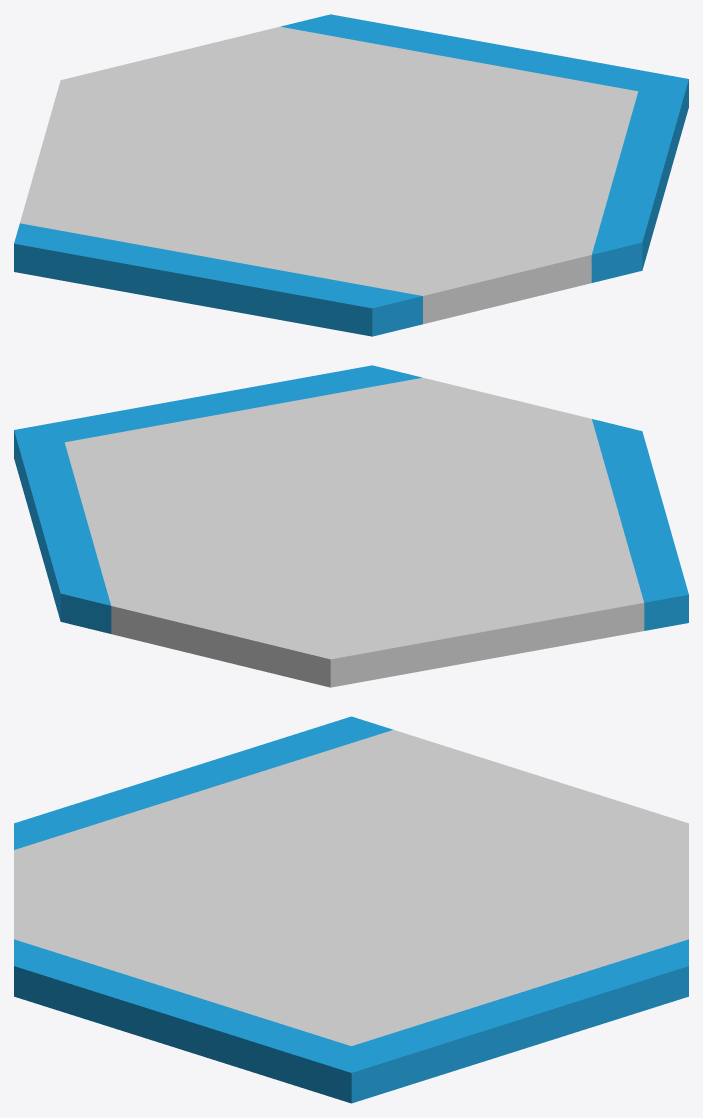
3 renders of one model, top to bottom at view 1: azimuth 30°, elevation 25°; view 2: azimuth 150°, elevation 25°; view 3: azimuth 270°, elevation 25°, orthographic. The views are drawn at different scales.
Visible parts, largest first — view 1: Hexagon.001, SW, SE.001, NE.001; view 2: Hexagon.001, NE.001, SW, SE.001; view 3: Hexagon.001, SE.001, NE.001, SW.
Part boxes in pixels (left/top/right/bottom): Hexagon.001: left=20, top=26, right=638, bottom=324; SW: left=14, top=223, right=422, bottom=336; SE.001: left=591, top=79, right=688, bottom=282; NE.001: left=281, top=14, right=687, bottom=91; Hexagon.001: left=64, top=377, right=644, bottom=687; NE.001: left=14, top=430, right=111, bottom=633; SW: left=592, top=419, right=688, bottom=630; SE.001: left=15, top=365, right=421, bottom=442; Hexagon.001: left=14, top=730, right=688, bottom=1045; SE.001: left=14, top=939, right=351, bottom=1103; NE.001: left=351, top=939, right=688, bottom=1103; SW: left=14, top=716, right=393, bottom=849.
Bounding box in the file's own units: 5 × 4 × 0.2.
